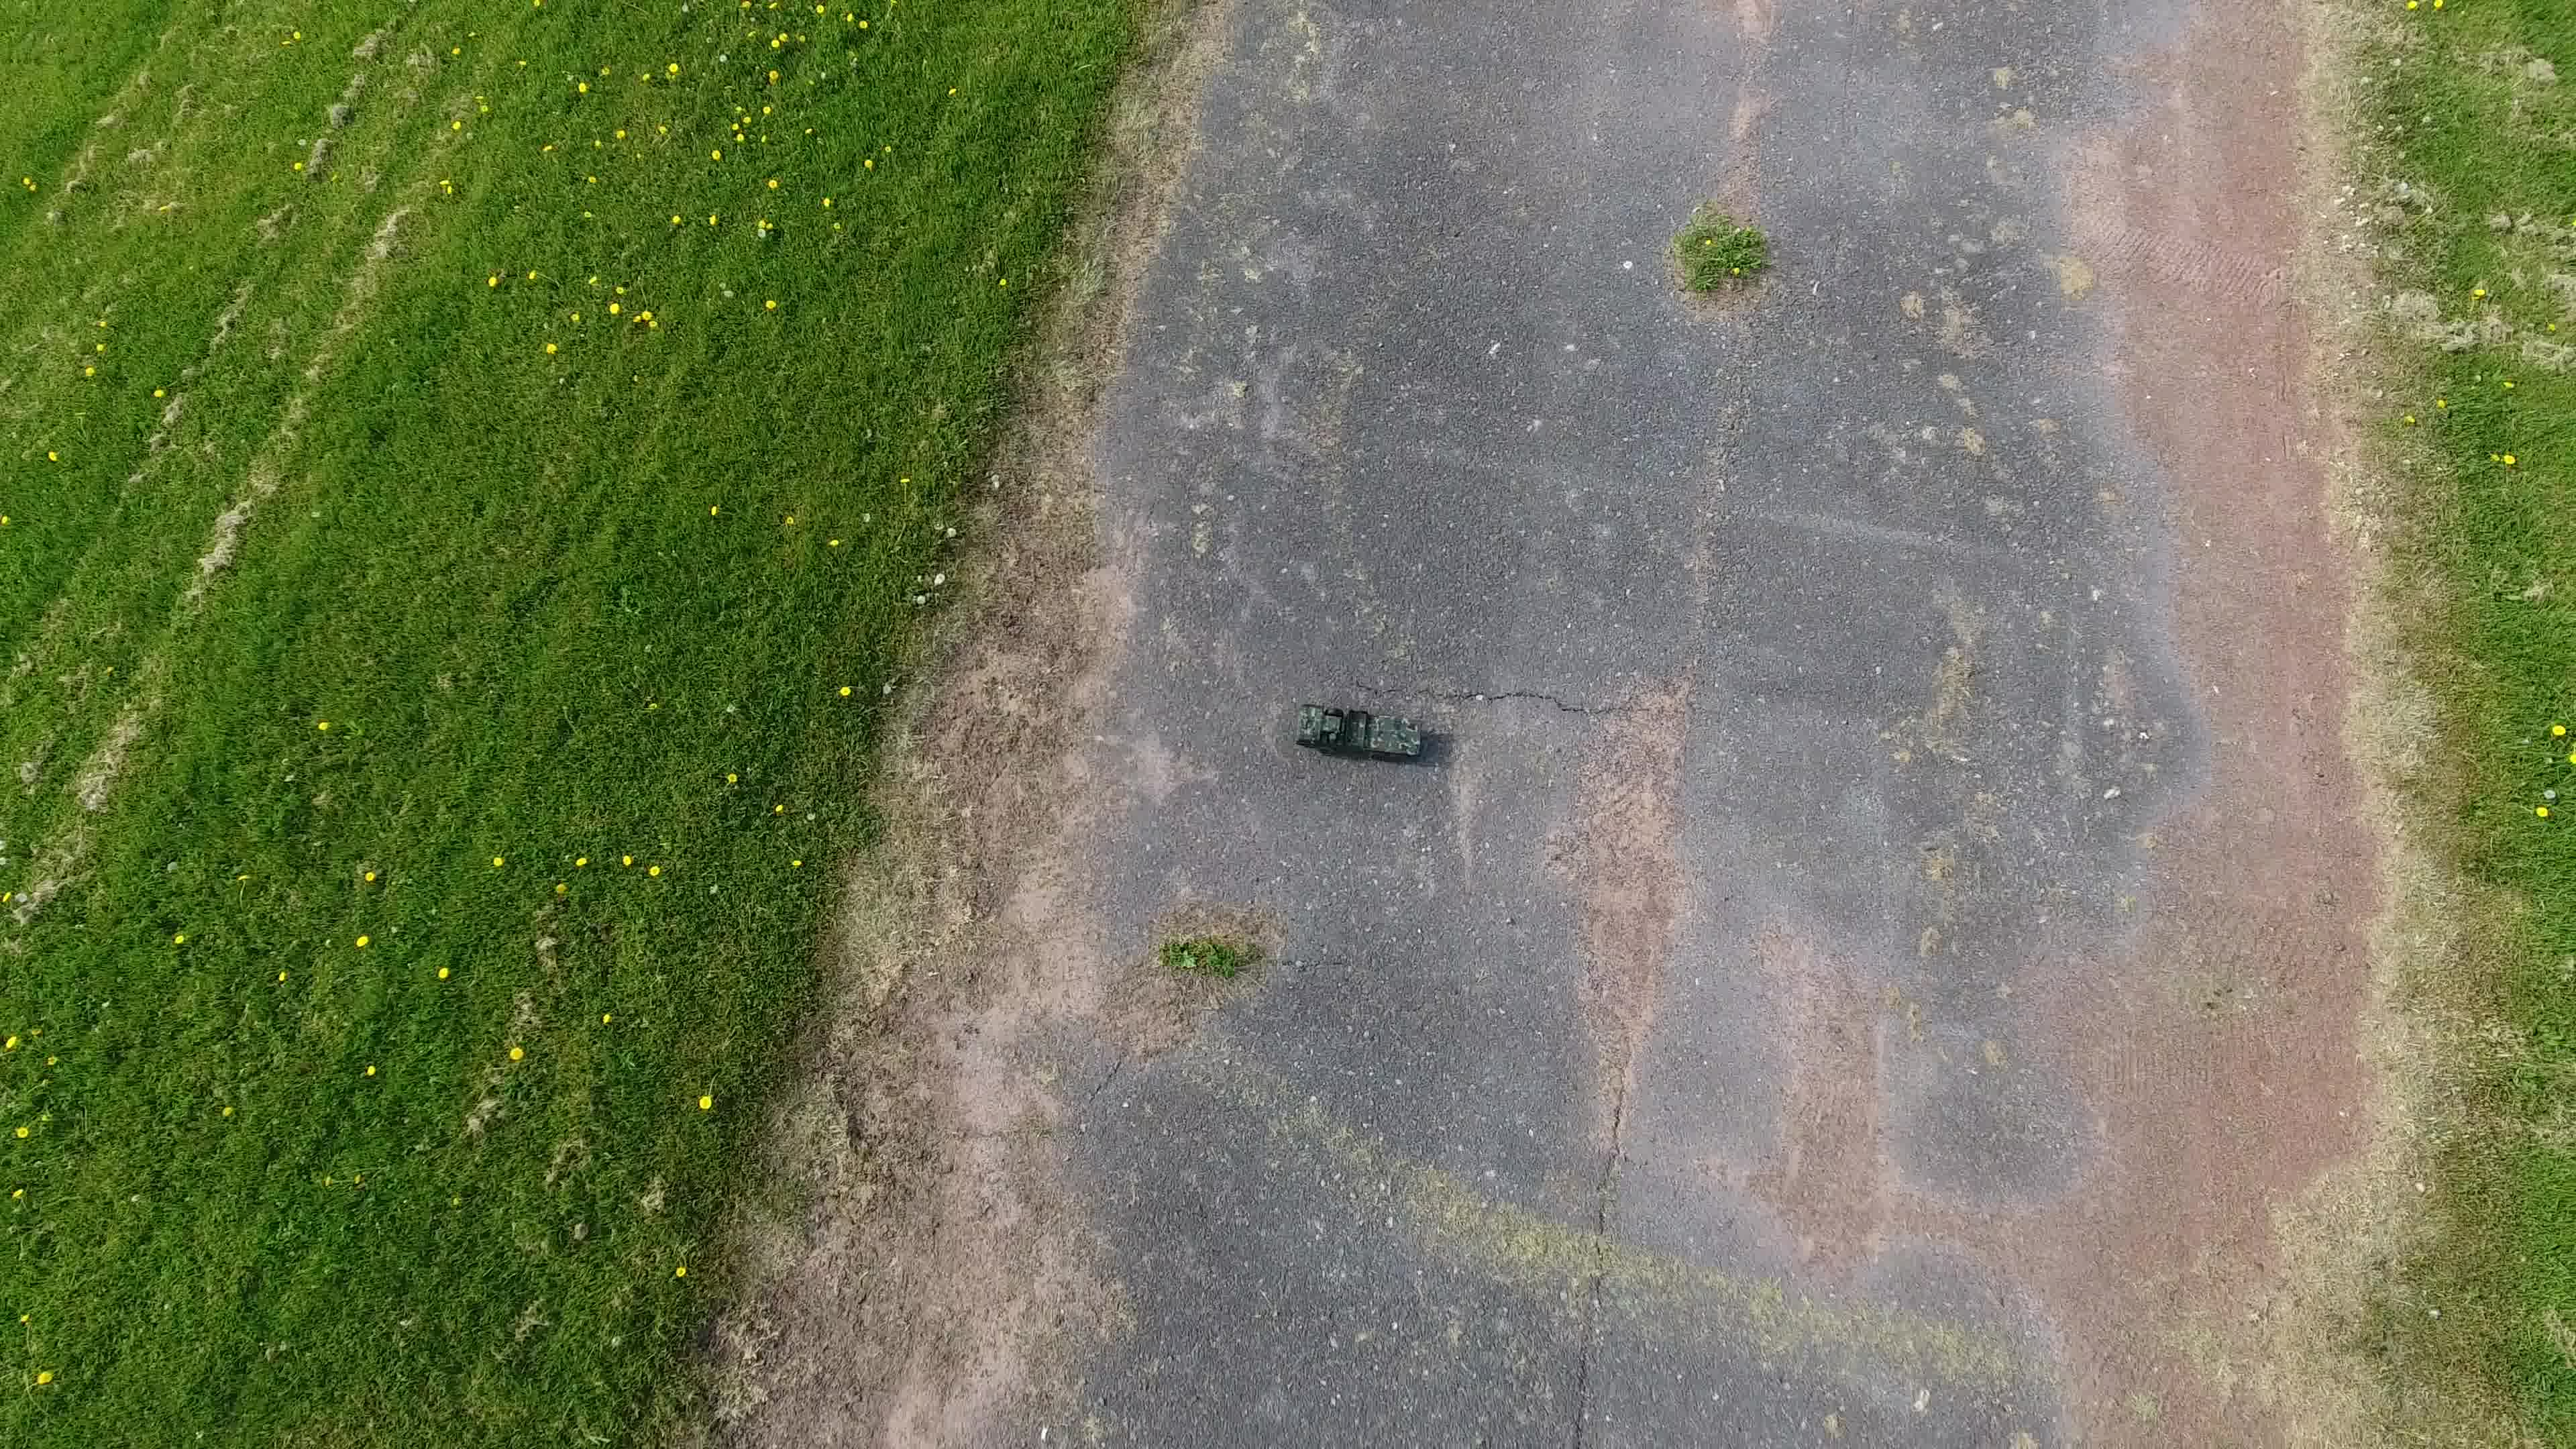transporter9_camo: (1292, 699, 1426, 763)
